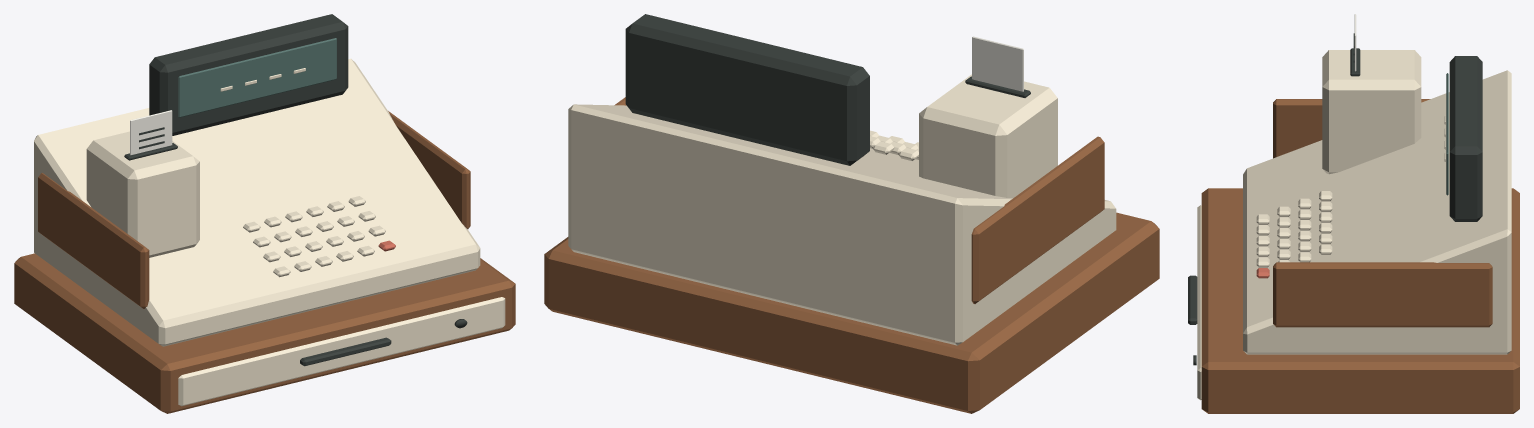
The model's file is terra-cash-register.glb.
The picture shows the model from 3 angles, left to right: view 1: azimuth 30°, elevation 25°; view 2: azimuth 150°, elevation 25°; view 3: azimuth 270°, elevation 25°; orthographic projection. The views are drawn at different scales.
Bounding box in the file's own units: 0.54 × 0.34 × 0.42.
